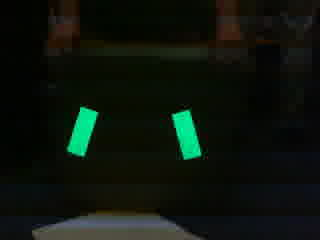target: (65, 104, 204, 161)
